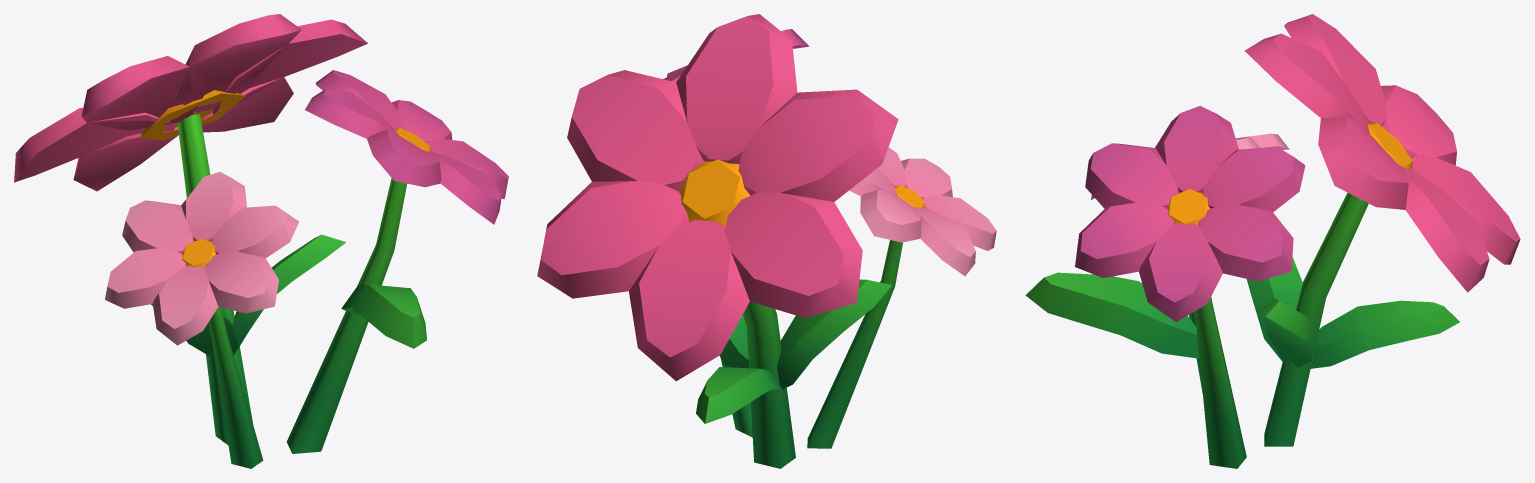
The model's file is Flowers_1_G.fbx.
The picture shows the model from 3 angles, left to right: view 1: azimuth 30°, elevation 25°; view 2: azimuth 150°, elevation 25°; view 3: azimuth 270°, elevation 25°; orthographic projection. The views are drawn at different scales.
Visible parts, largest first — view 1: Flowers_1_G; view 2: Flowers_1_G; view 3: Flowers_1_G.
Boxes of the visible parts, x1,y1,x2,y2 form: Flowers_1_G: (14,14,508,468); Flowers_1_G: (537,14,996,468); Flowers_1_G: (1025,14,1520,468).
Size of the model in its own units: 44.47 by 46.92 by 50.78.
